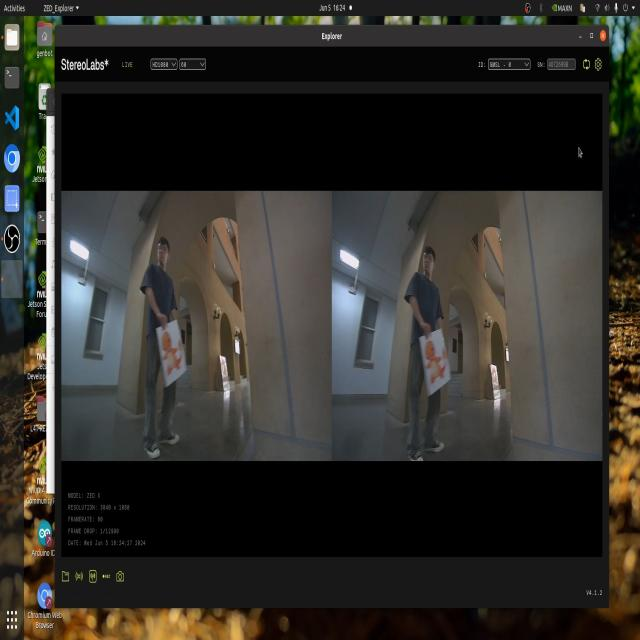red: (411, 336, 456, 388), (158, 330, 191, 388)
